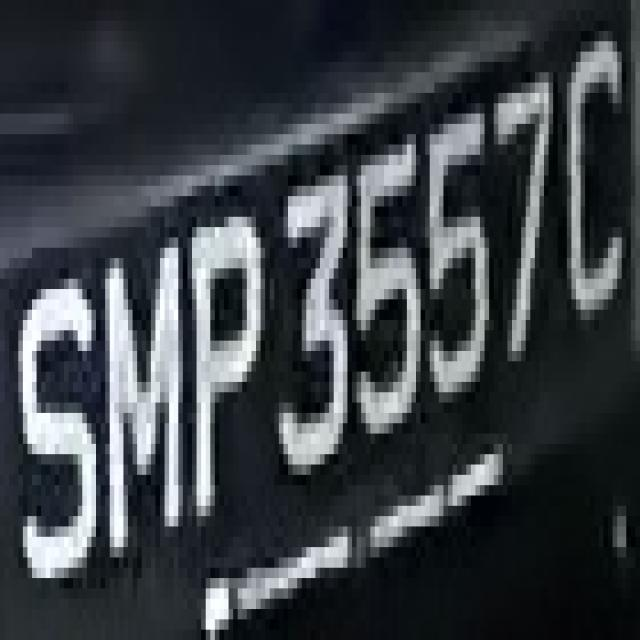3: (265, 144, 348, 496)
5: (347, 124, 430, 475), (416, 82, 498, 413)
7: (480, 21, 549, 392)
C: (544, 10, 631, 372)
M: (96, 227, 197, 568)
P: (188, 196, 265, 547)
S: (14, 268, 100, 588)
